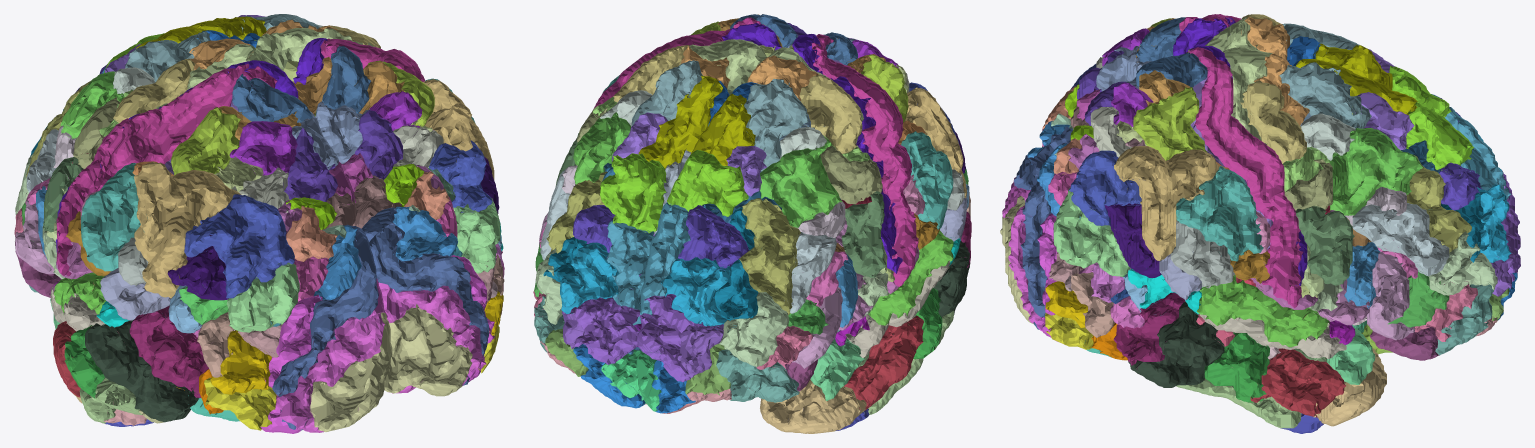
The model's file is hcpex_brain.glb.
3 renders of one model, left to right at view 1: azimuth 30°, elevation 25°; view 2: azimuth 150°, elevation 25°; view 3: azimuth 270°, elevation 25°, orthographic. The views are drawn at different scales.
Parts seen in each view (by area): view 1: Area 1 L, Area PFm Complex L, Area PGs L, Primary Visual Cortex R, Third Visual Area R, Area TE1 posterior L, Second Visual Area L, Third Visual Area L, Area PF Complex L, Primary Visual Cortex L, Area PHT L, Second Visual Area R (+71 smaller); view 2: Area 1 L, Area 46 L, Area 8Av L, Area 8B Lateral R, Area TG dorsal L, Area TE1 anterior L, Area 8B Lateral L, Area 6m anterior L, Area 9 anterior L, Area 10d R, Superior Frontal Language Area R, Dorsal area 6 L (+66 smaller); view 3: Area 1 R, Area PFm Complex R, Area 8Av R, Area PF Complex R, Auditory 4 Complex R, Area TE1 posterior R, Area posterior 9-46v R, Area TE1 anterior R, Area PGp R, Area 6m anterior R, Area 7PC R, Ventral Area 6 R (+72 smaller).
Boxes of the visible parts, left/top/right/bottom form: Area 1 L: left=56, top=63, right=277, bottom=276; Area PFm Complex L: left=134, top=161, right=241, bottom=298; Area PGs L: left=184, top=194, right=294, bottom=298; Primary Visual Cortex R: left=384, top=304, right=472, bottom=396; Third Visual Area R: left=361, top=207, right=488, bottom=385; Area TE1 posterior L: left=85, top=320, right=198, bottom=422; Second Visual Area L: left=276, top=278, right=387, bottom=432; Third Visual Area L: left=272, top=224, right=378, bottom=430; Area PF Complex L: left=81, top=163, right=147, bottom=271; Primary Visual Cortex L: left=310, top=312, right=392, bottom=431; Area PHT L: left=129, top=305, right=208, bottom=397; Second Visual Area R: left=378, top=282, right=483, bottom=393; Area 1 L: left=811, top=34, right=918, bottom=286; Area 46 L: left=739, top=198, right=800, bottom=315; Area 8Av L: left=757, top=139, right=842, bottom=227; Area 8B Lateral R: left=600, top=153, right=666, bottom=233; Area TG dorsal L: left=760, top=379, right=866, bottom=433; Area TE1 anterior L: left=844, top=315, right=923, bottom=410; Area 8B Lateral L: left=667, top=150, right=748, bottom=216; Area 6m anterior L: left=741, top=79, right=808, bottom=171; Area 9 anterior L: left=660, top=257, right=731, bottom=326; Area 10d R: left=574, top=297, right=640, bottom=364; Superior Frontal Language Area R: left=638, top=75, right=723, bottom=168; Dorsal area 6 L: left=799, top=74, right=862, bottom=153; Area 1 R: left=1188, top=47, right=1303, bottom=308; Area PFm Complex R: left=1114, top=146, right=1218, bottom=260; Area 8Av R: left=1327, top=128, right=1422, bottom=215; Area PF Complex R: left=1176, top=166, right=1263, bottom=268; Auditory 4 Complex R: left=1196, top=275, right=1329, bottom=347; Area TE1 posterior R: left=1128, top=302, right=1224, bottom=387; Area posterior 9-46v R: left=1352, top=203, right=1449, bottom=276; Area TE1 anterior R: left=1250, top=348, right=1345, bottom=417; Area PGp R: left=1053, top=187, right=1132, bottom=276; Area 6m anterior R: left=1279, top=62, right=1371, bottom=129; Area 7PC R: left=1133, top=87, right=1207, bottom=160; Ventral Area 6 R: left=1295, top=205, right=1354, bottom=285.
Bounding box in the file's own units: 7.17 × 6.68 × 9.04.
